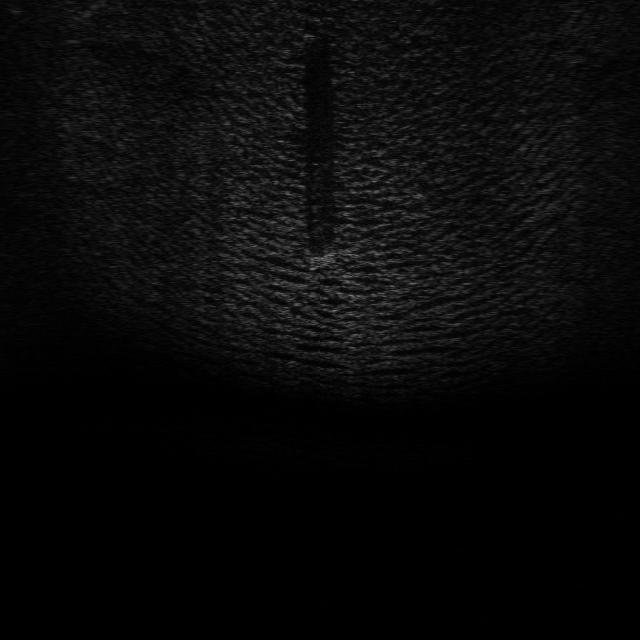cube: (307, 250, 342, 272)
